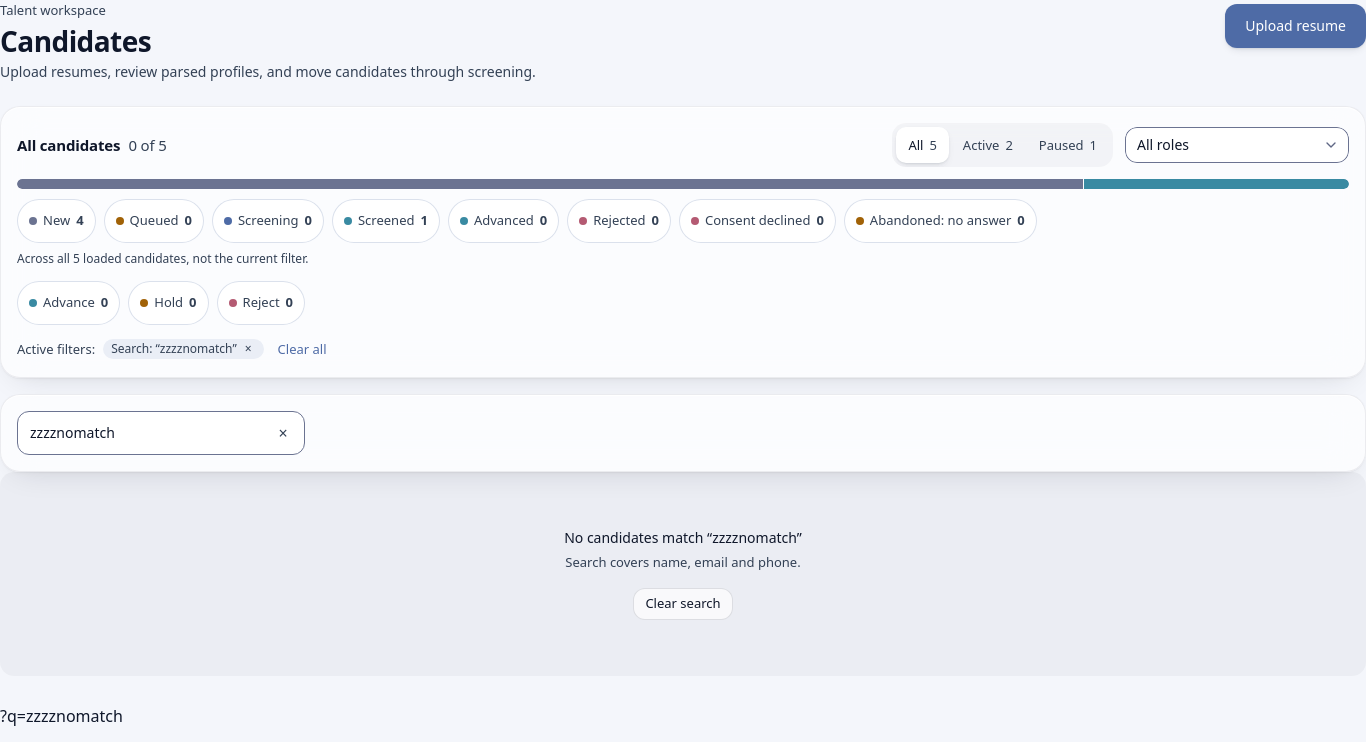
it: CandidatesPage search lives in the candidate-list panel › keeps the box mounted when a search matches nothing, so it can be cleared
Check: the text "No candidates match “zzzznomatch”" is shown, box top-left (564, 528), bottom-right (802, 548)
Check: the search field named "Search candidates" holds "zzzznomatch", box top-left (17, 411), bottom-right (305, 455)
Click the button named "Clear search" at coordinates (283, 433), box top-left (261, 411), bottom-right (305, 455)
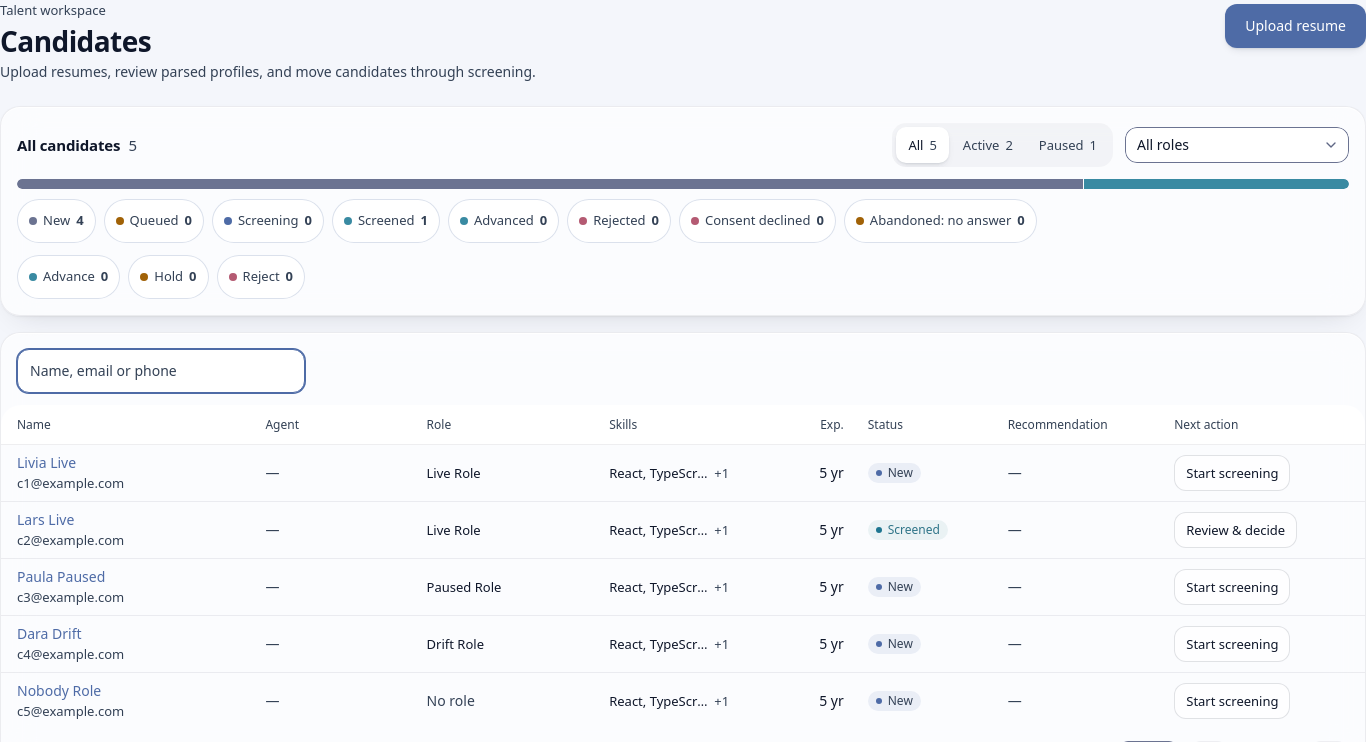
Check: the link "Livia Live" is shown, box top-left (17, 453), bottom-right (76, 472)
